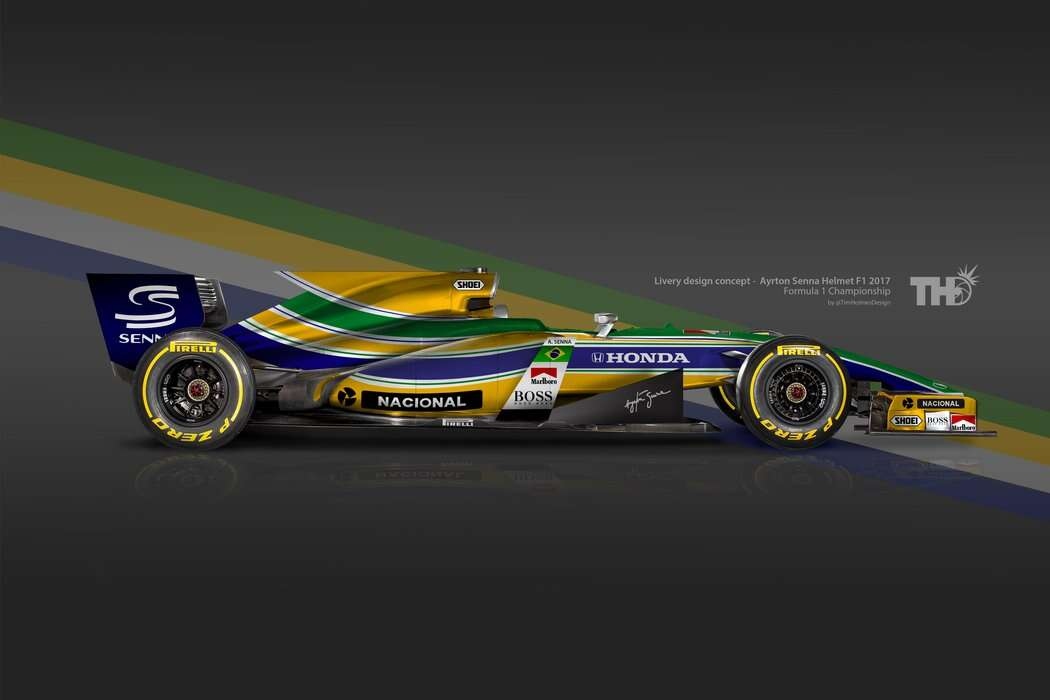f1_car: (68, 253, 1012, 465)
